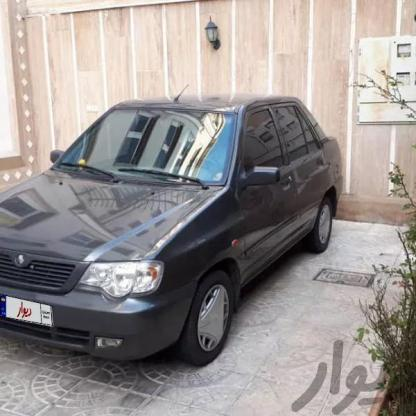Car: (0, 93, 346, 359)
